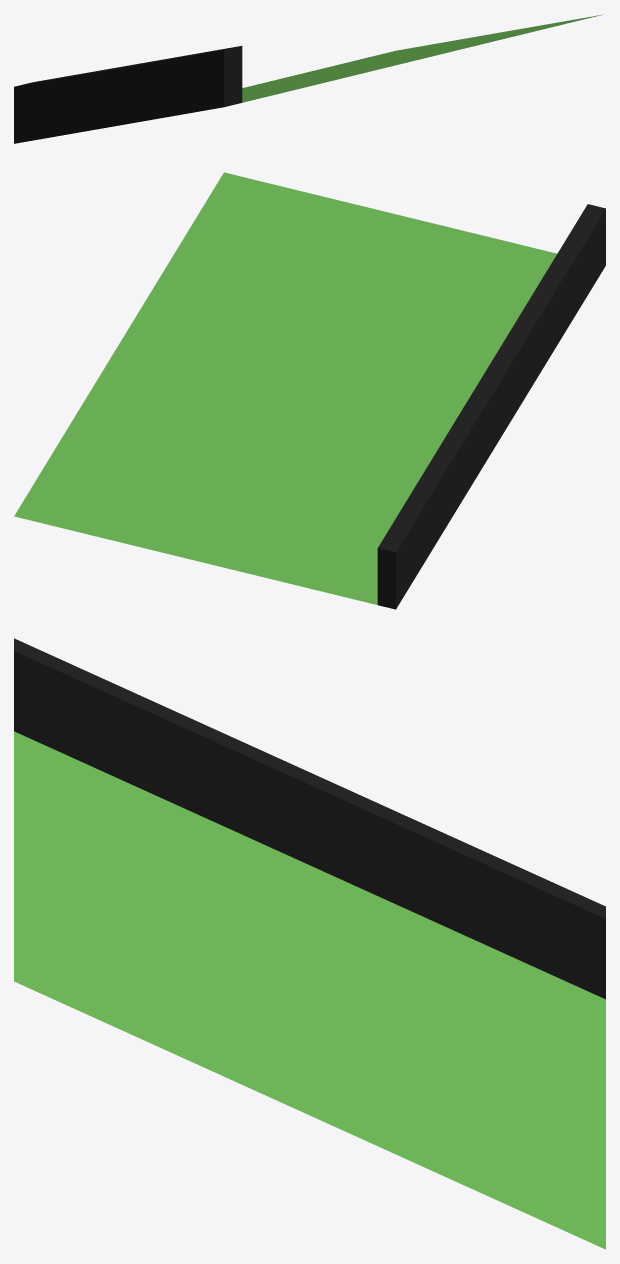
Rendered from tile_ramp_lw.fbx.
3 views of the same model, one above another, from view 1: azimuth 30°, elevation 25°; view 2: azimuth 150°, elevation 25°; view 3: azimuth 270°, elevation 25° (orthographic). The views are drawn at different scales.
Visible parts, largest first — view 1: T4_Ramp_inv; view 2: T4_Ramp_inv; view 3: T4_Ramp_inv.
Boxes of the visible parts, bbox=[...] form: T4_Ramp_inv: bbox=[14, 14, 602, 143]; T4_Ramp_inv: bbox=[14, 172, 605, 609]; T4_Ramp_inv: bbox=[14, 638, 605, 1249].
Bounding box in the file's own units: 210 × 130 × 200.
